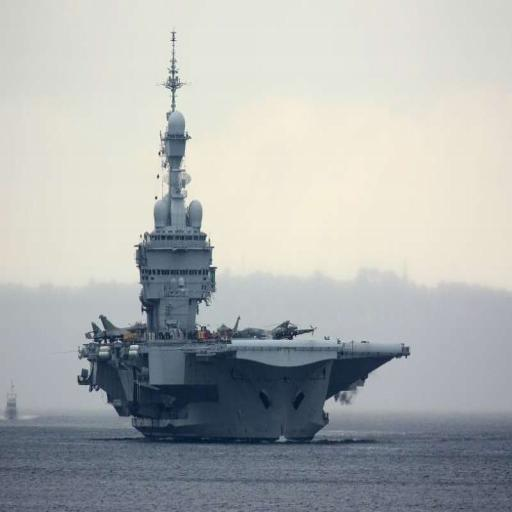Portanaves: (76, 28, 414, 448)
